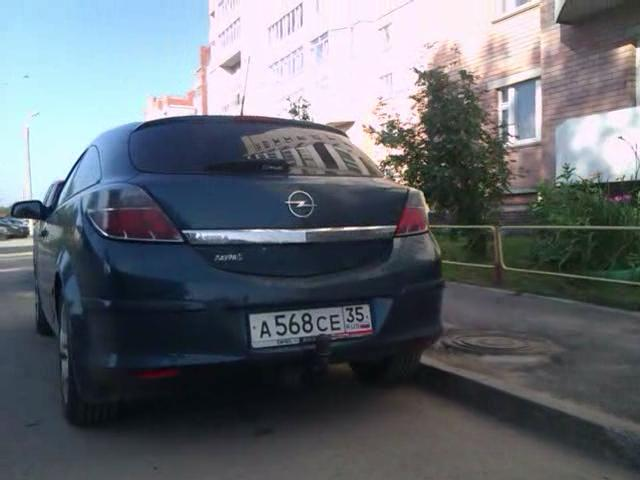car license plate: (248, 299, 376, 349)
